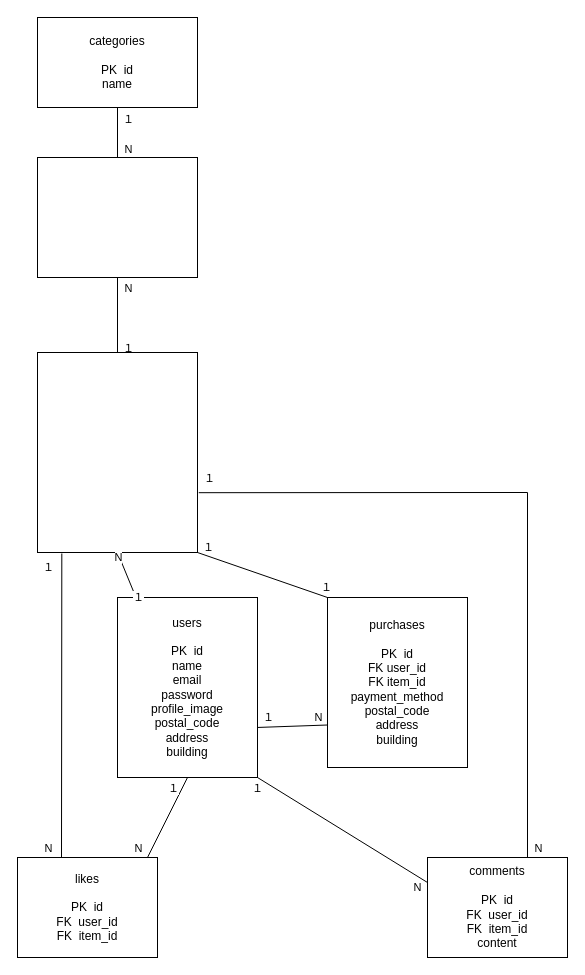
Image size: 585x975. Some labels were removed from this diagram. Each missing label, with the box of its shape:
category_item PK id FK item_id FK category_id: (36, 156, 198, 278)
items PK id FK user_id name brand condition price description image is_sold: (36, 352, 198, 552)
